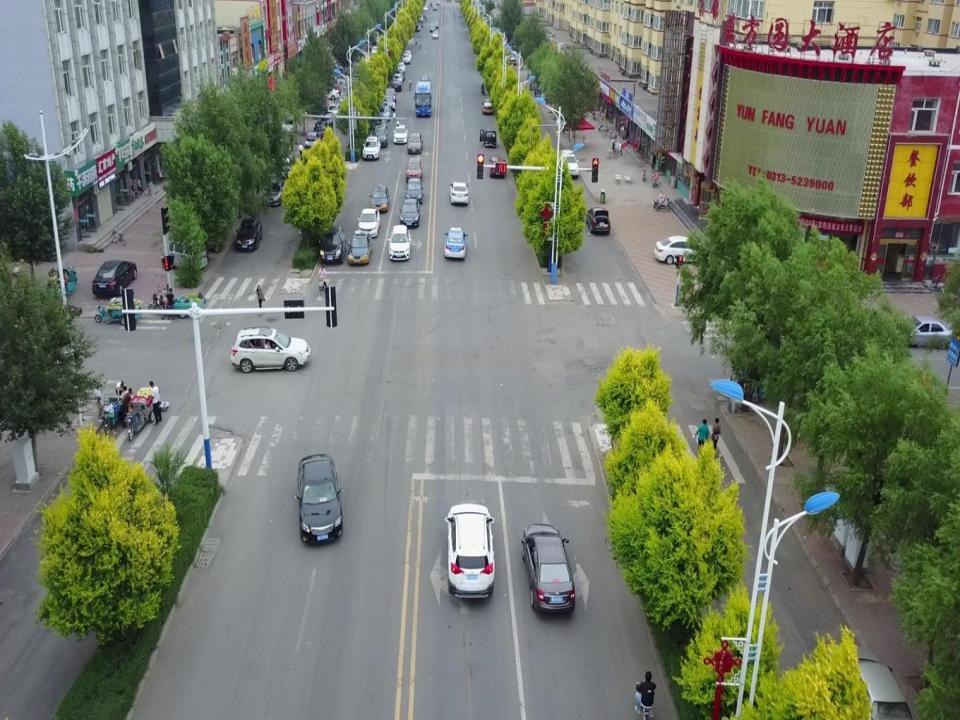bus: (414, 81, 434, 116)
car: (822, 644, 914, 720), (522, 524, 576, 616), (446, 504, 497, 600), (295, 455, 344, 544), (232, 326, 308, 372), (173, 213, 224, 253), (900, 314, 956, 348), (91, 261, 139, 298), (654, 238, 706, 266), (234, 217, 262, 253), (387, 225, 411, 261), (347, 230, 371, 264), (444, 227, 467, 258), (587, 206, 611, 234), (356, 207, 380, 234), (398, 199, 421, 227), (308, 83, 340, 101), (369, 185, 390, 212), (558, 149, 578, 177), (448, 181, 470, 204), (363, 134, 382, 160), (489, 155, 508, 179), (404, 159, 424, 181), (263, 180, 280, 204), (310, 119, 330, 139), (327, 103, 346, 121), (407, 177, 422, 199), (409, 129, 422, 154), (378, 106, 392, 129), (303, 130, 320, 148), (383, 88, 398, 108), (282, 115, 296, 136), (322, 107, 336, 127), (482, 130, 495, 150), (375, 127, 387, 147), (388, 76, 401, 93), (394, 125, 406, 143), (419, 72, 430, 90), (481, 99, 493, 114), (403, 48, 412, 63), (401, 54, 411, 66), (507, 52, 517, 64), (398, 62, 406, 73), (433, 21, 440, 29), (432, 31, 438, 40), (430, 23, 435, 33)
van: (155, 234, 208, 275)
